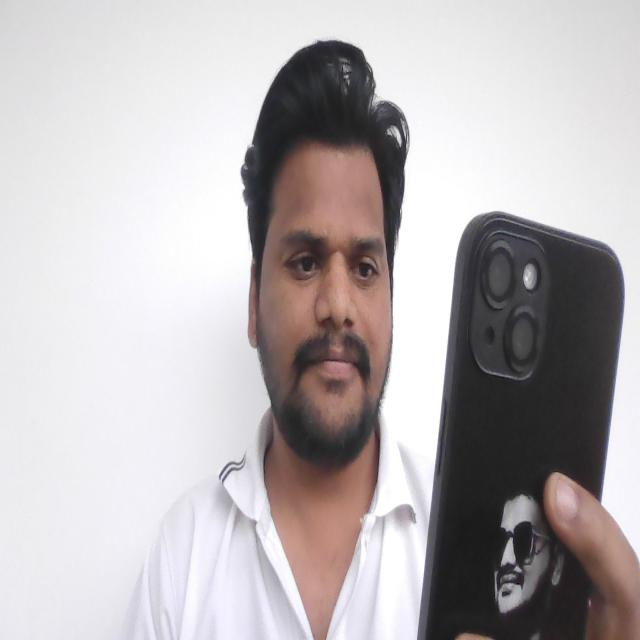phone: (426, 207, 624, 524)
